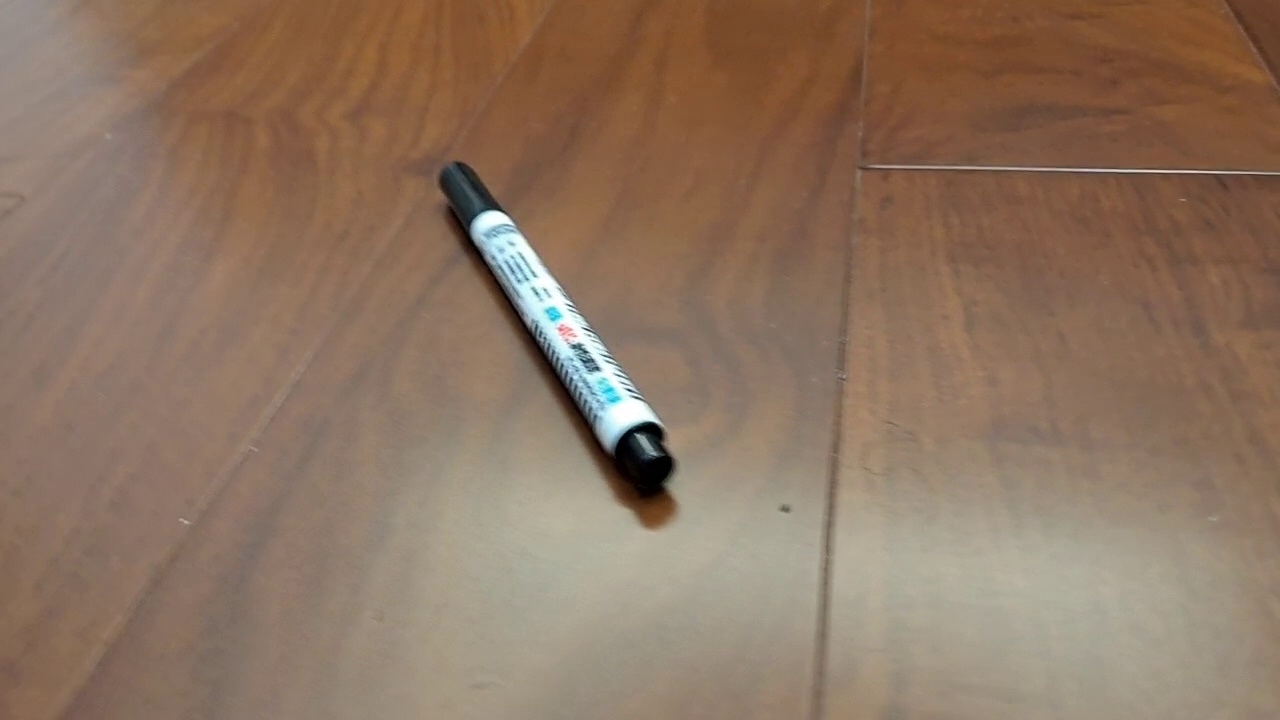pen: (437, 159, 677, 491)
